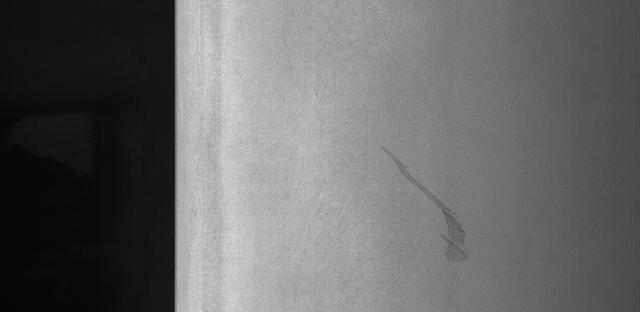water_spot: (371, 135, 483, 279)
